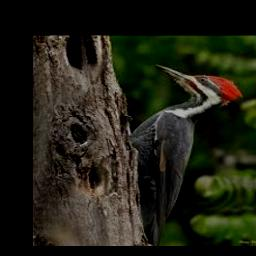Woodpecker: (128, 64, 242, 246)
